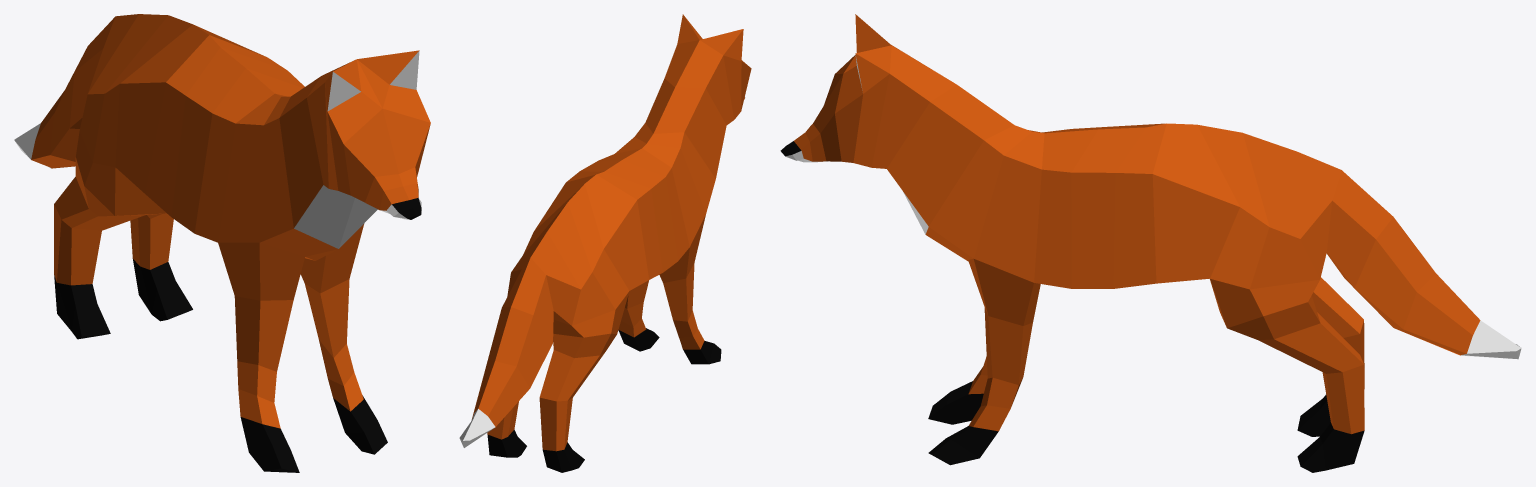
File: Foxmodel2.fbx
The picture shows the model from 3 angles, left to right: view 1: azimuth 30°, elevation 25°; view 2: azimuth 150°, elevation 25°; view 3: azimuth 270°, elevation 25°; orthographic projection. The views are drawn at different scales.
Visible parts, largest first — view 1: Fox; view 2: Fox; view 3: Fox.
Boxes of the visible parts, bbox=[...] form: Fox: bbox=[14, 14, 430, 472]; Fox: bbox=[459, 14, 751, 472]; Fox: bbox=[780, 14, 1521, 472].
Size of the model in its own units: 175 by 511 by 824.
